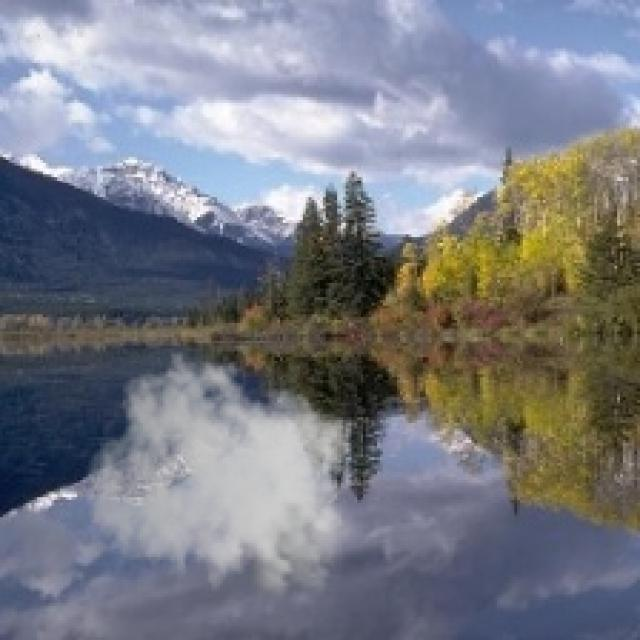Smoke: (86, 352, 360, 608)
